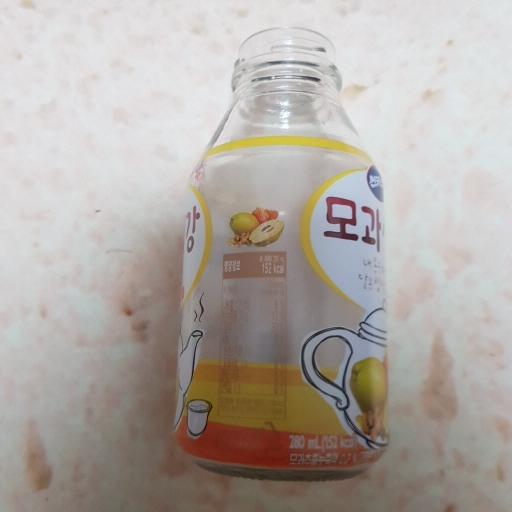Glass_4: (160, 24, 400, 479)
